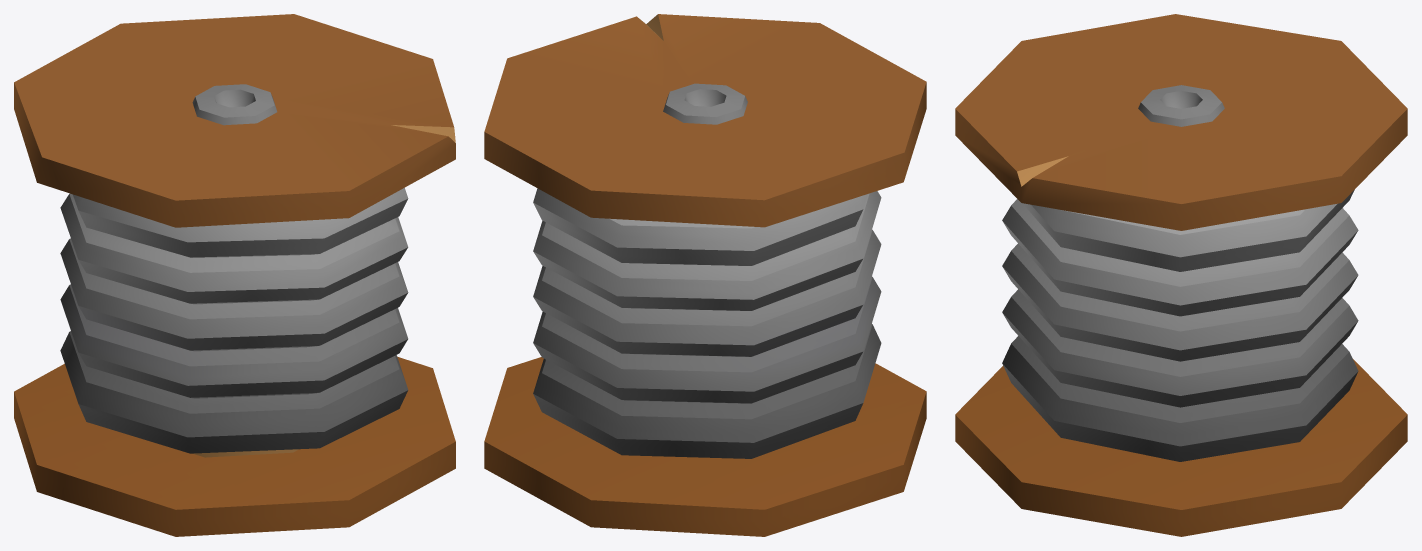
File: Spool_2_2.fbx
3 views of the same model, side by side, from view 1: azimuth 30°, elevation 25°; view 2: azimuth 150°, elevation 25°; view 3: azimuth 270°, elevation 25° (orthographic).
Parts seen in each view (by area): view 1: Spool_2_2; view 2: Spool_2_2; view 3: Spool_2_2.
Boxes of the visible parts, <box> form: Spool_2_2: <box>14,14,455,536</box>; Spool_2_2: <box>484,14,926,536</box>; Spool_2_2: <box>955,14,1407,536</box>.
Bounding box in the file's own units: 121 × 102 × 121.
